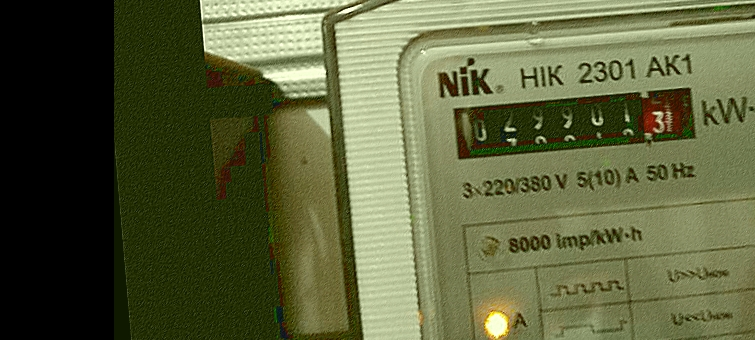0: (468, 113, 489, 141), (586, 97, 605, 127)
1: (617, 94, 633, 123)
2: (498, 104, 518, 133)
3: (647, 106, 667, 133)
9: (528, 102, 546, 130), (559, 101, 574, 129)
screen: (442, 74, 707, 168)
